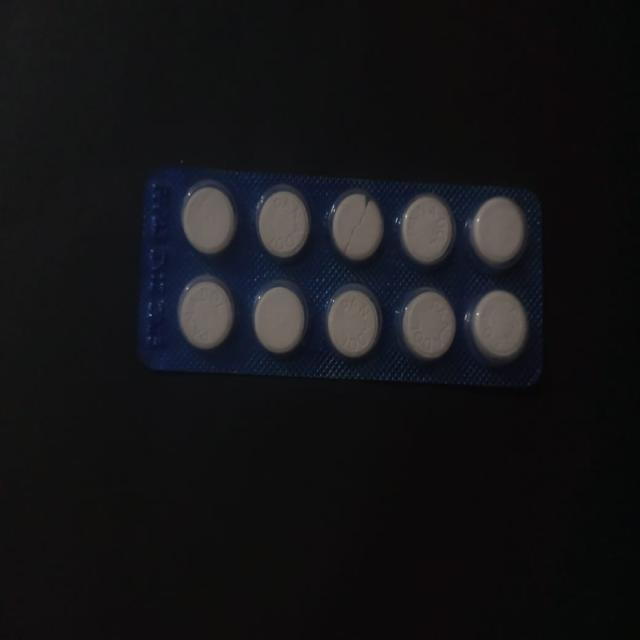defect: (323, 184, 389, 269)
